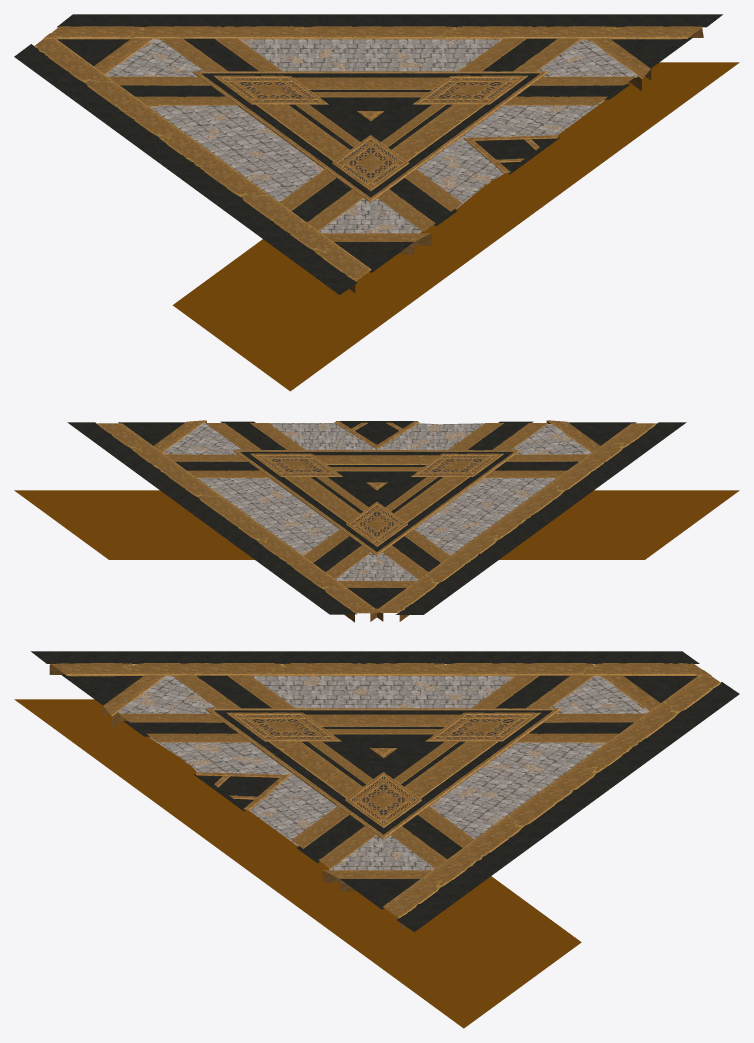
3 renders of one model, top to bottom at view 1: azimuth 30°, elevation 25°; view 2: azimuth 150°, elevation 25°; view 3: azimuth 270°, elevation 25°, orthographic. The views are drawn at different scales.
Parts seen in each view (by area): view 1: SM_Nightmare_Crucible_Arena_Side_SectionB_01v1_LOD0; view 2: SM_Nightmare_Crucible_Arena_Side_SectionB_01v1_LOD0; view 3: SM_Nightmare_Crucible_Arena_Side_SectionB_01v1_LOD0.
Part boxes in pixels (x1,y1,x2,y2): SM_Nightmare_Crucible_Arena_Side_SectionB_01v1_LOD0: (14, 14, 739, 391); SM_Nightmare_Crucible_Arena_Side_SectionB_01v1_LOD0: (14, 420, 739, 622); SM_Nightmare_Crucible_Arena_Side_SectionB_01v1_LOD0: (14, 651, 739, 1028).
Bounding box in the file's own units: 114 × 12.61 × 107.
Materials: 7 (6 with a texture image).
